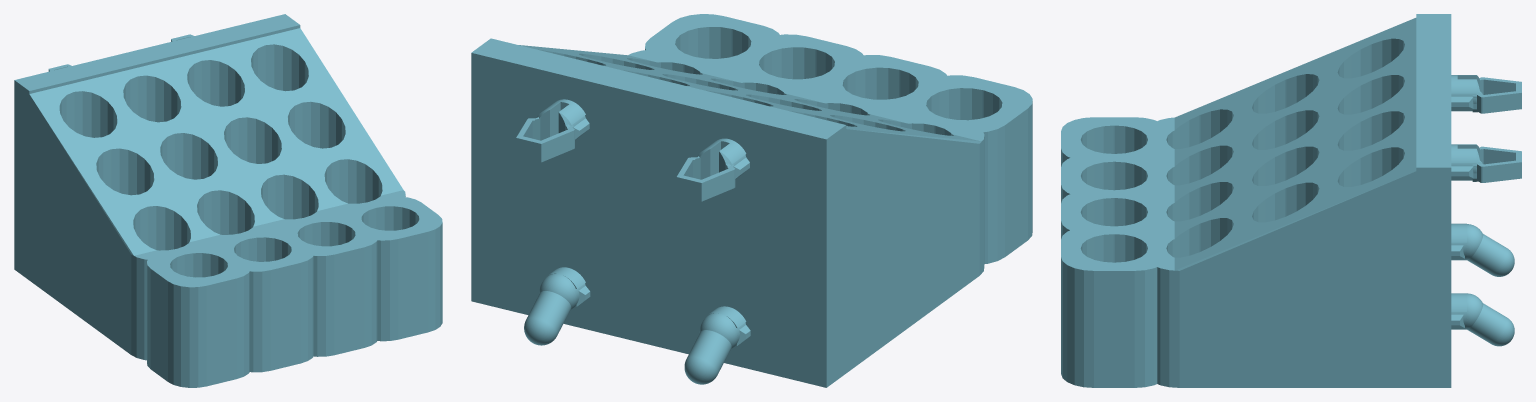
The model's file is part-p09-16__current-mounts-flat-top-v2__fit-pf02c9-hoop5__print.glb.
The picture shows the model from 3 angles, left to right: view 1: azimuth 30°, elevation 25°; view 2: azimuth 150°, elevation 25°; view 3: azimuth 270°, elevation 25°; orthographic projection. The views are drawn at different scales.
Parts seen in each view (by area): view 1: print.stl; view 2: print.stl; view 3: print.stl.
Boxes of the visible parts, box(x1,y1,x2,y2) form: print.stl: box(14, 14, 442, 387); print.stl: box(471, 14, 1032, 387); print.stl: box(1061, 14, 1521, 387).
Bounding box in the file's own units: 0.0562 × 0.0376 × 0.0713.
